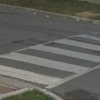crosswalk: (0, 34, 99, 85)
